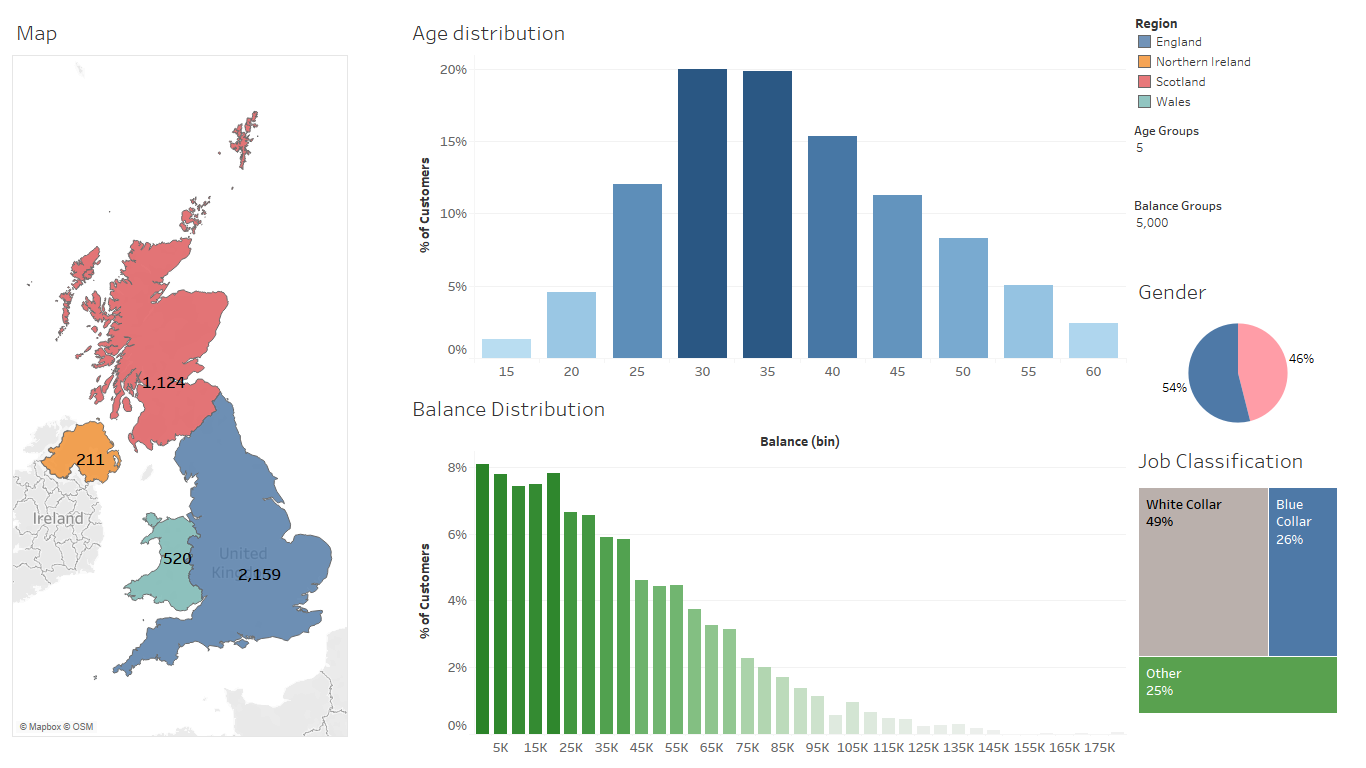

This screenshot's page, from the dashboard's own definition file:
{"tool":"tableau","page":{"name":"Segmentation Dash","canvas":[1366,768],"ordinal":0},"visuals":[{"type":"worksheet","box":[0,0,1366,768]},{"type":"worksheet","param":"horz","box":[8,8,1350,752]},{"type":"worksheet","box":[8,8,1122,752]},{"type":"worksheet","title":"Map","mark":"Multipolygon","box":[8,8,395.9,752]},{"type":"worksheet","title":"Age distribution","mark":"Bar","rows":["P1-UK-Bank-Customers.csv_56E4B8CB1DAB4341A8C13B043A7200BB"],"cols":["Age (bin)"],"box":[403.9,8,726.1,376]},{"type":"worksheet","param":"vert","box":[1130,8,228,752]},{"type":"worksheet","title":"Map","mark":"Multipolygon","param":"[federated.0wtq85e1iqbpd916zwgx91ikxzg4].[none:Region:nk]","box":[1130,8,228,109]},{"type":"worksheet","param":"[Parameters].[Parameter 2]","box":[1130,117,228,75]},{"type":"worksheet","param":"[Parameters].[Parameter 1]","box":[1130,192,228,75]},{"type":"worksheet","title":"Gender","mark":"Pie","box":[1130,267,228,169]},{"type":"worksheet","title":"Balance Distribution","mark":"Automatic","rows":["P1-UK-Bank-Customers.csv_56E4B8CB1DAB4341A8C13B043A7200BB"],"cols":["Balance (bin)"],"box":[403.9,384,726.1,376]},{"type":"worksheet","title":"Job Classification","mark":"Automatic","box":[1130,436,228,296]}]}

Visuals, with their boxes in screenshot pixels (x1, y1, x2, y2), scaled from the page's 1366x768 canvas onto the 1366x768 screenshot:
worksheet: detection(0, 0, 1365, 767)
worksheet: detection(8, 8, 1358, 760)
worksheet: detection(8, 8, 1130, 760)
"Map" worksheet (Multipolygon marks): detection(8, 8, 404, 760)
"Age distribution" worksheet (Bar marks): detection(404, 8, 1130, 384)
worksheet: detection(1130, 8, 1358, 760)
"Map" worksheet (Multipolygon marks): detection(1130, 8, 1358, 117)
worksheet: detection(1130, 117, 1358, 192)
worksheet: detection(1130, 192, 1358, 267)
"Gender" worksheet (Pie marks): detection(1130, 267, 1358, 436)
"Balance Distribution" worksheet: detection(404, 384, 1130, 760)
"Job Classification" worksheet: detection(1130, 436, 1358, 732)
